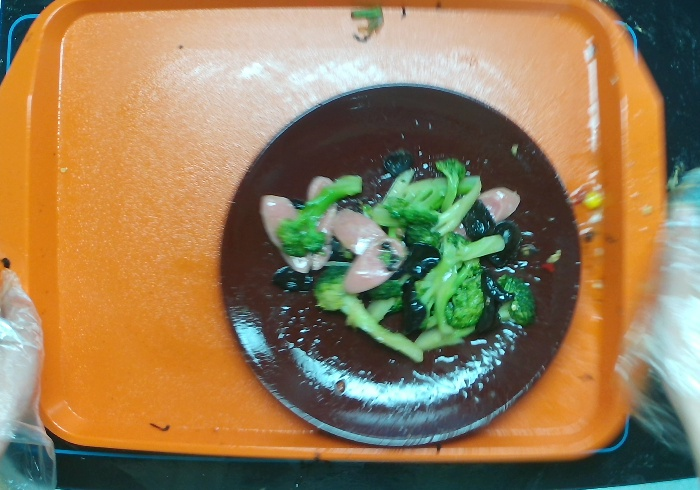HZYJPL-Ka_Fei_Yuan_Pan: (209, 75, 588, 454)
